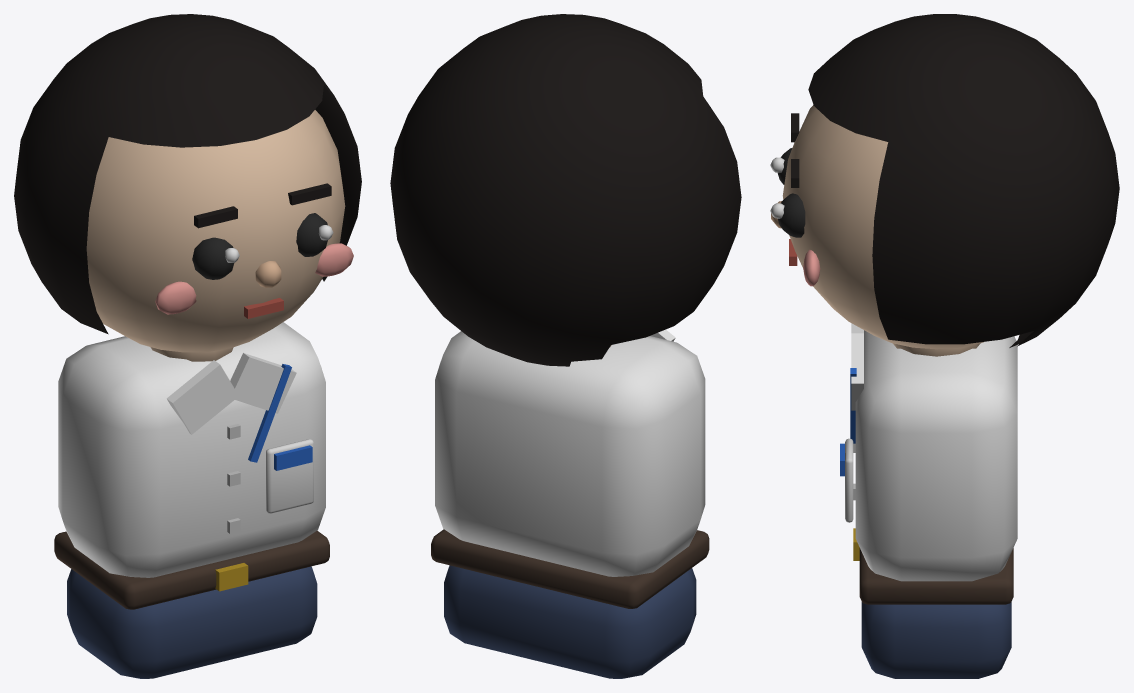
The model's file is person_c.glb.
The picture shows the model from 3 angles, left to right: view 1: azimuth 30°, elevation 25°; view 2: azimuth 150°, elevation 25°; view 3: azimuth 270°, elevation 25°; orthographic projection.
Visible parts, largest first — view 1: person_c; view 2: person_c; view 3: person_c.
Boxes of the visible parts, x1,y1,x2,y2 form: person_c: (14, 14, 361, 678); person_c: (390, 14, 741, 678); person_c: (770, 14, 1119, 678).
Size of the model in its own units: 0.1663 by 0.325 by 0.168.
